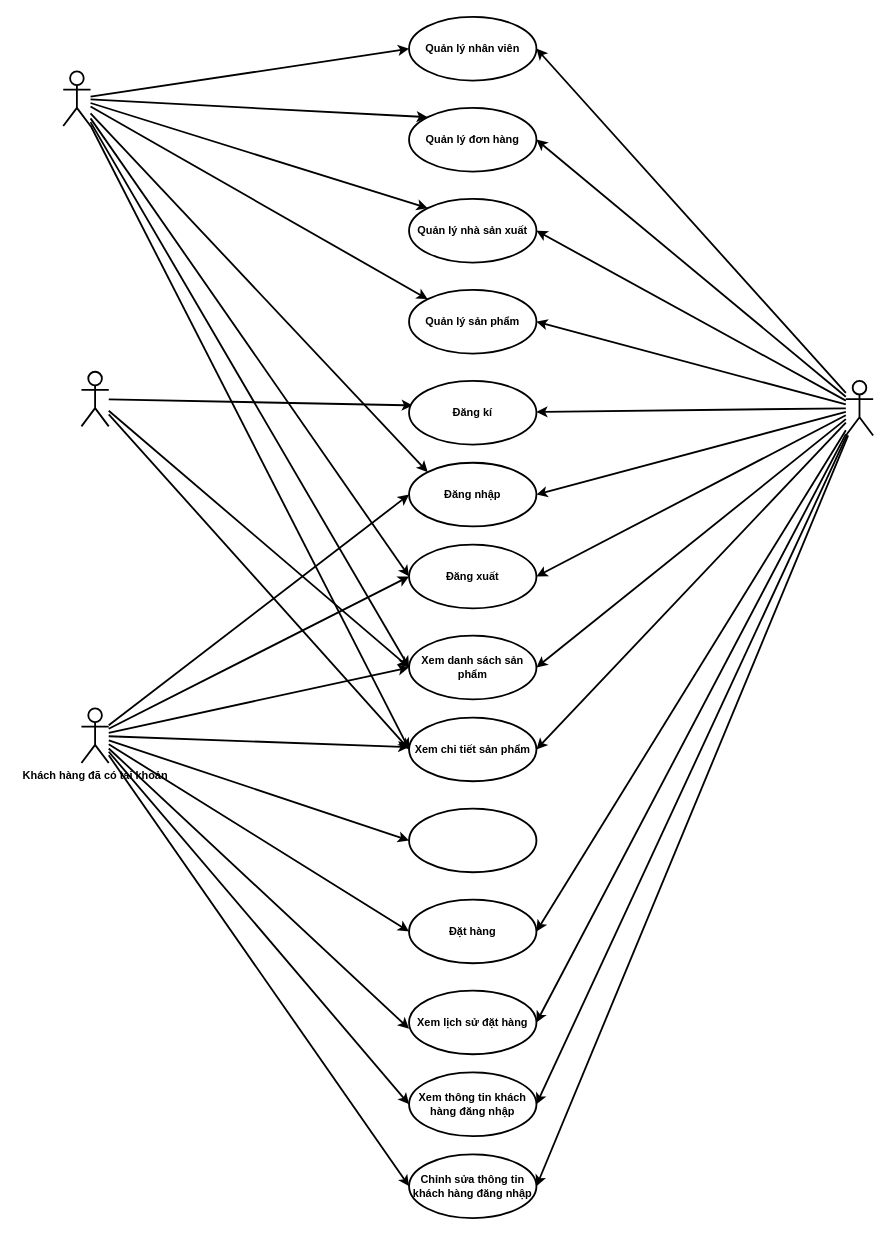
Some shapes in this 890 by 1234 pixel diagram are drawn without their labels. Here are the shapes that lost their labels. From the top down, the centre of each, then its label:
(76,98): Admin
(94,398): Khách hàng chưa có tài khoản
(859,407): CSDL
(472,840): Thêm sản phẩm vào giỏ hàng
